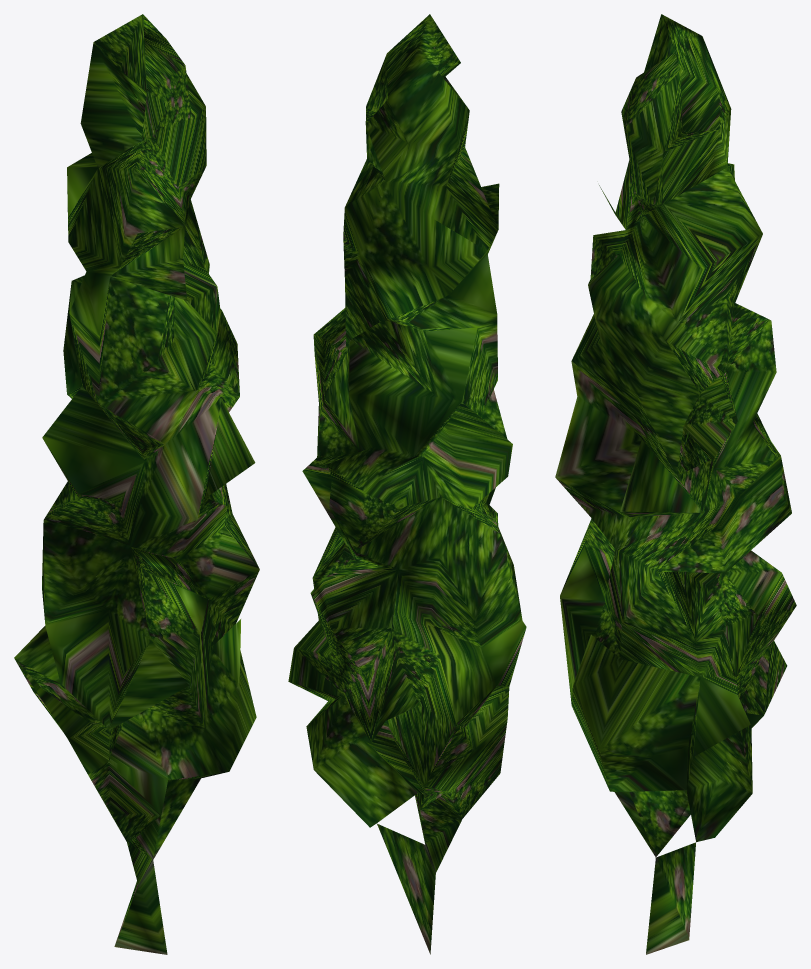
The model's file is tree-poplar-lod.glb.
3 renders of one model, left to right at view 1: azimuth 30°, elevation 25°; view 2: azimuth 150°, elevation 25°; view 3: azimuth 270°, elevation 25°, orthographic.
Parts seen in each view (by area): view 1: tree-poplar-lod; view 2: tree-poplar-lod; view 3: tree-poplar-lod.
Boxes of the visible parts, box(x1,y1,x2,y2) form: tree-poplar-lod: box(14, 14, 259, 954); tree-poplar-lod: box(288, 14, 526, 954); tree-poplar-lod: box(555, 14, 796, 954).
Size of the model in its own units: 2.61 by 11.63 by 2.73.
1 material, 1 textured.
